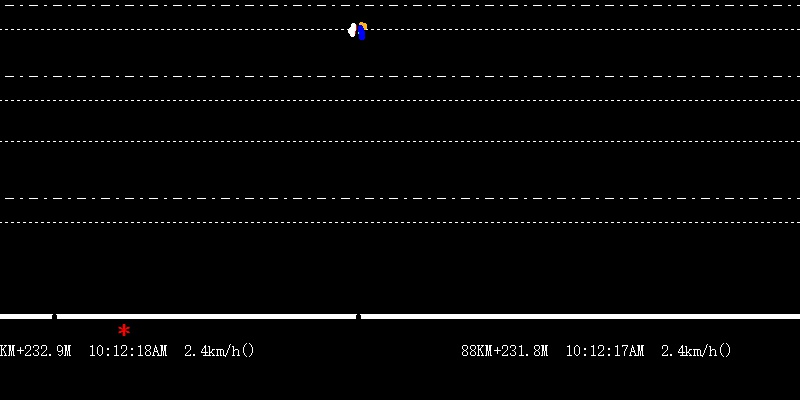face_2: (346, 21, 368, 42)
star: (115, 320, 131, 336)
